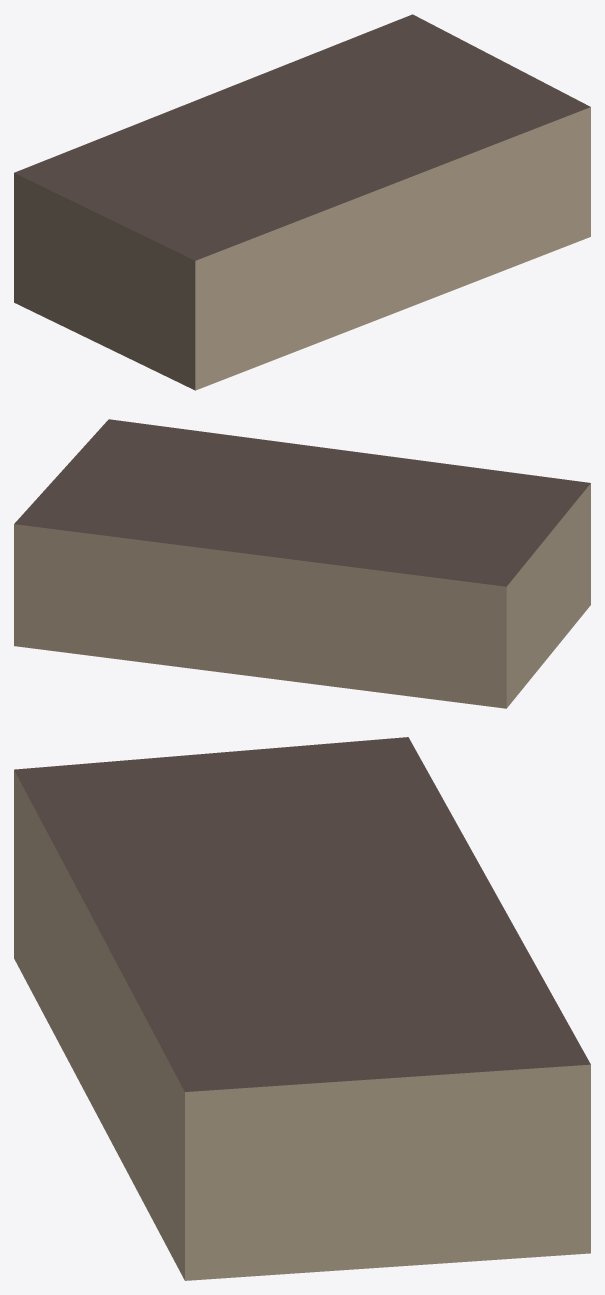
3 renders of one model, top to bottom at view 1: azimuth 30°, elevation 25°; view 2: azimuth 150°, elevation 25°; view 3: azimuth 270°, elevation 25°, orthographic. The views are drawn at different scales.
Visible parts, largest first — view 1: HP-w693448722; view 2: HP-w693448722; view 3: HP-w693448722.
Part boxes in pixels (x1=…): HP-w693448722: x1=14, y1=14, x2=590, y2=390; HP-w693448722: x1=14, y1=419, x2=590, y2=708; HP-w693448722: x1=14, y1=737, x2=590, y2=1280.
Size of the model in its own units: 36.29 by 9 by 24.92.
